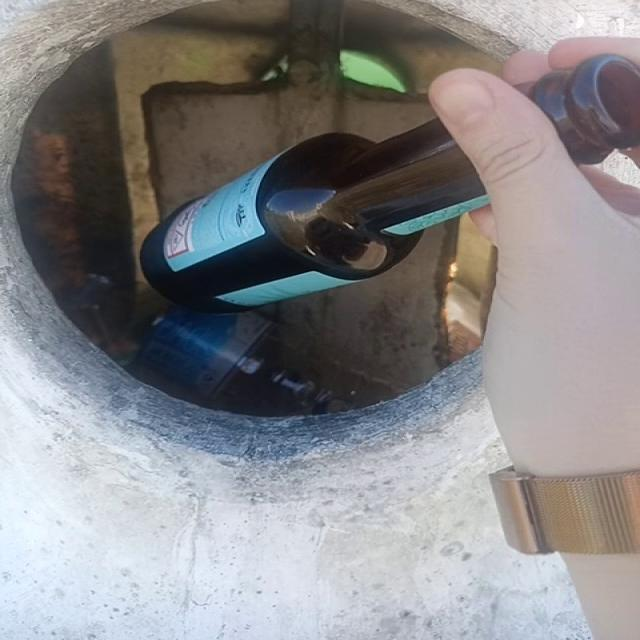glass: (140, 118, 488, 312), (535, 54, 639, 162)
